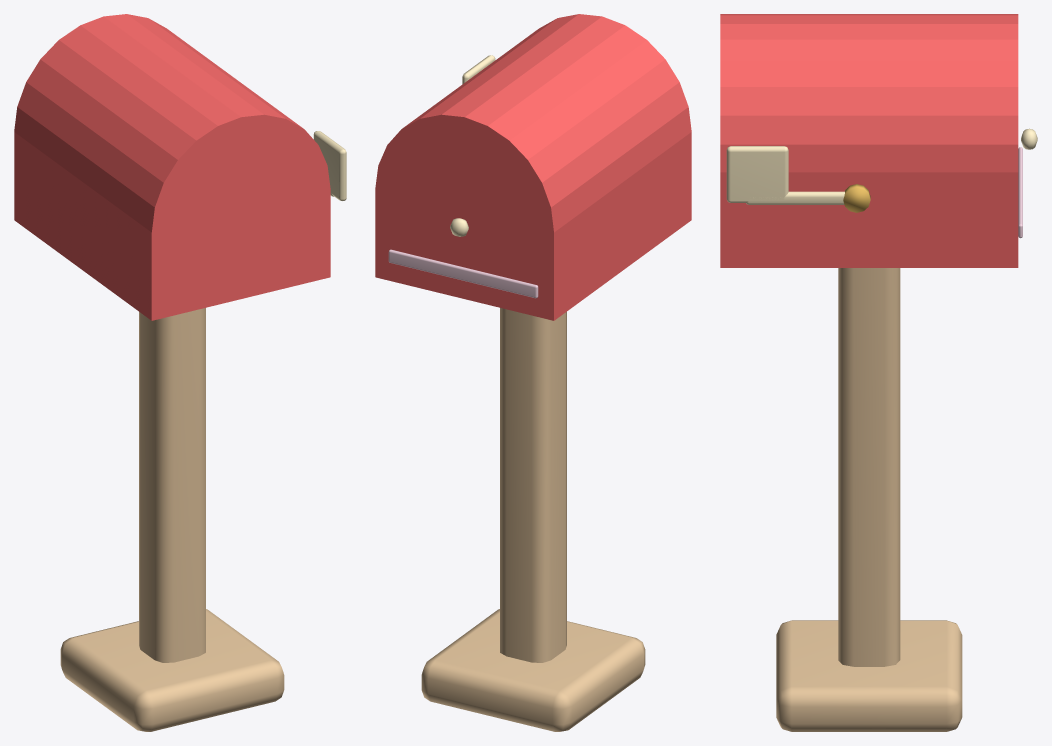
Rendered from mailbox.glb.
3 renders of one model, left to right at view 1: azimuth 30°, elevation 25°; view 2: azimuth 150°, elevation 25°; view 3: azimuth 270°, elevation 25°, orthographic. The views are drawn at different scales.
Parts seen in each view (by area): view 1: Body, Flag; view 2: Body; view 3: Body, Flag.
Part boxes in pixels (x1,y1,x2,y2): Body: (14, 14, 330, 731); Flag: (313, 131, 346, 201); Body: (375, 14, 691, 731); Body: (720, 14, 1037, 731); Flag: (726, 146, 870, 212).
Size of the model in its own units: 0.403 by 1.2 by 0.5113.
5 materials, 5 textured.
